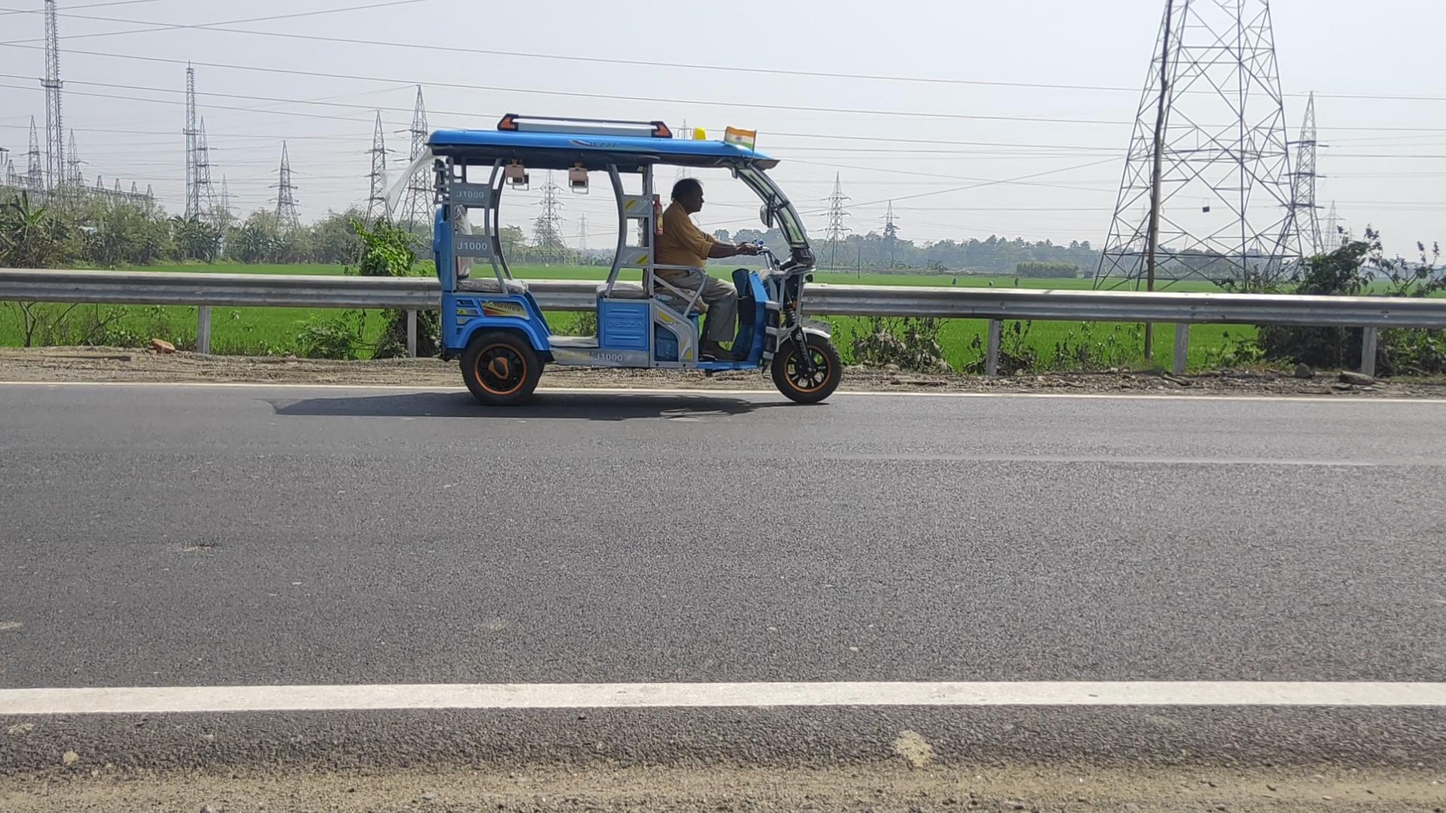Auto: (421, 113, 844, 409)
